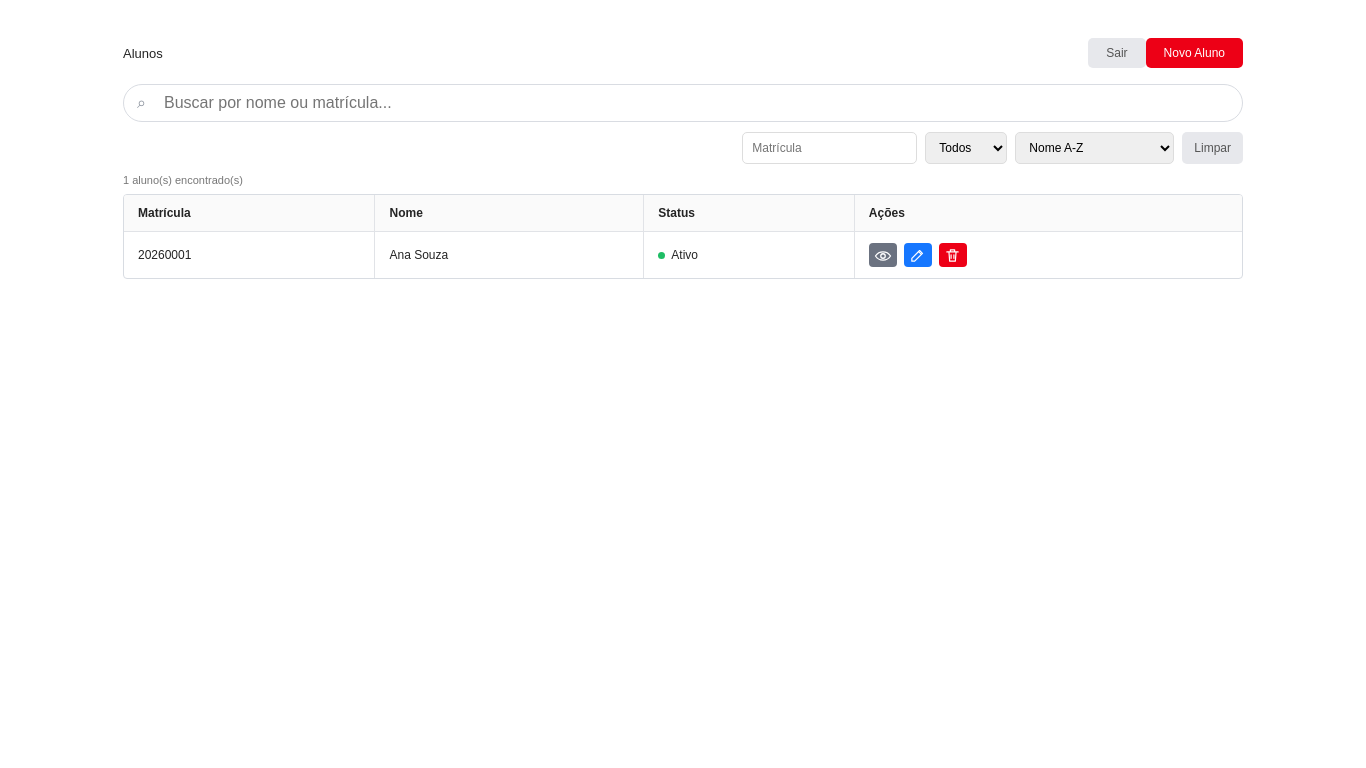
Scenario: ListaAlunosComponent › deve excluir aluno pelo fluxo de confirmacao
This screenshot has width=1366, height=768.
Click the button with class "excluir". click: (953, 255)
box: [939,243,967,267]
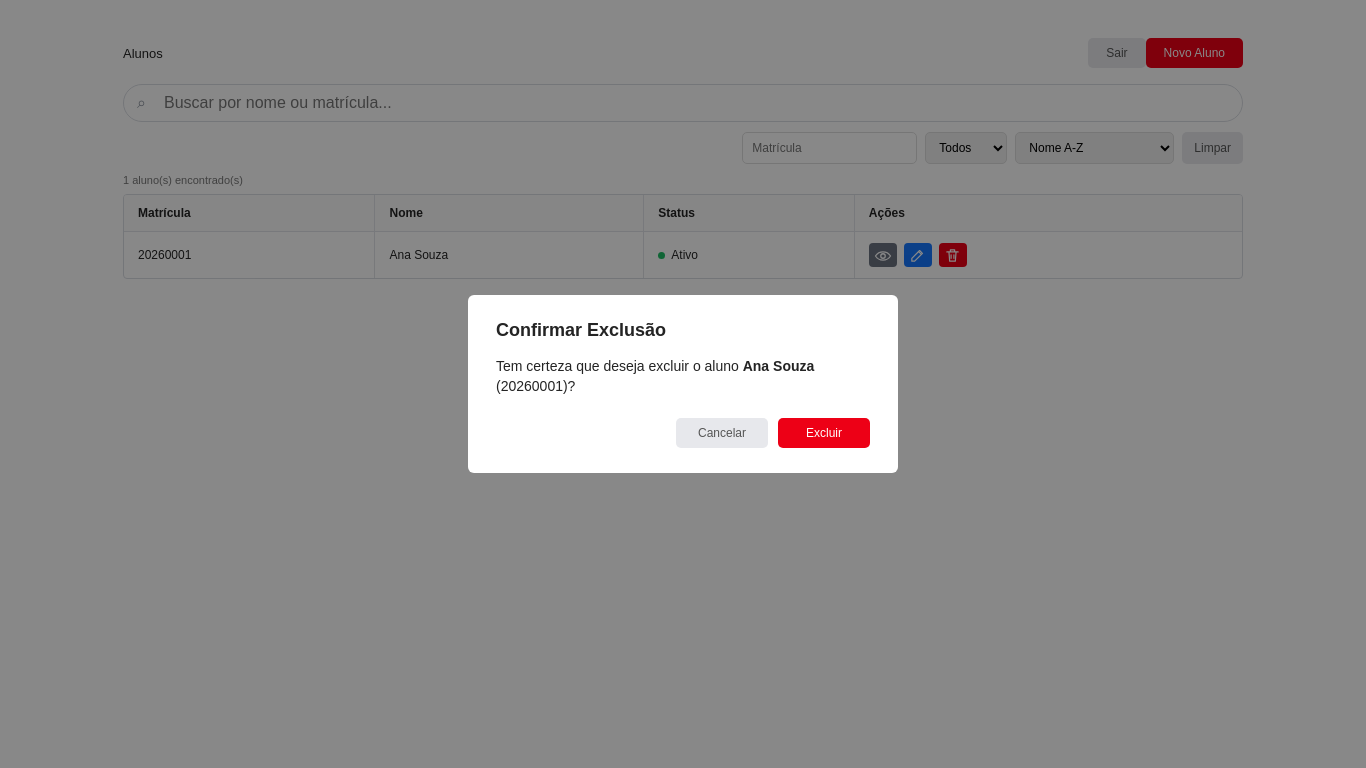
Check: the text "Confirmar Exclusão" is shown, box [496,320,666,340]
Click the button "Excluir". click: (824, 433)
box: [778,418,870,448]
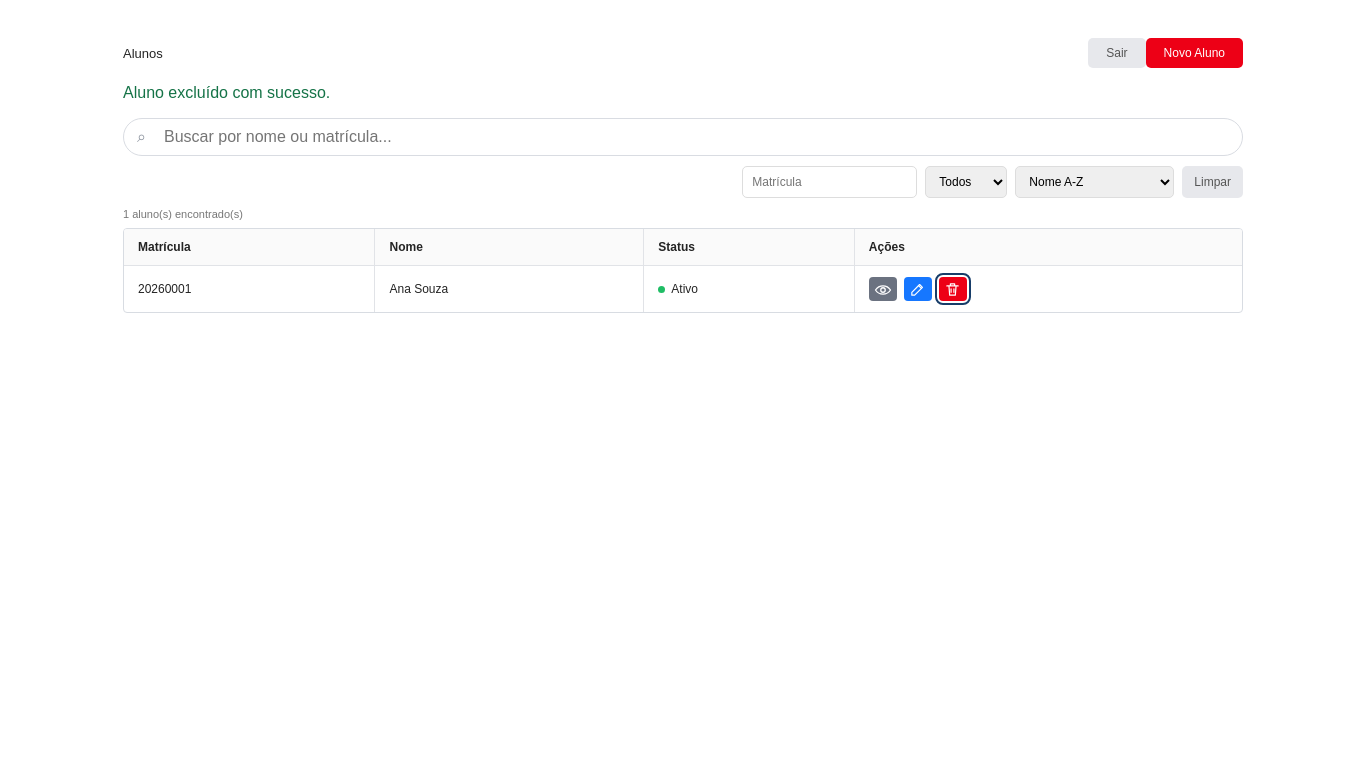
Check: the text "Aluno excluído com sucesso." is shown, box [123,84,330,101]
